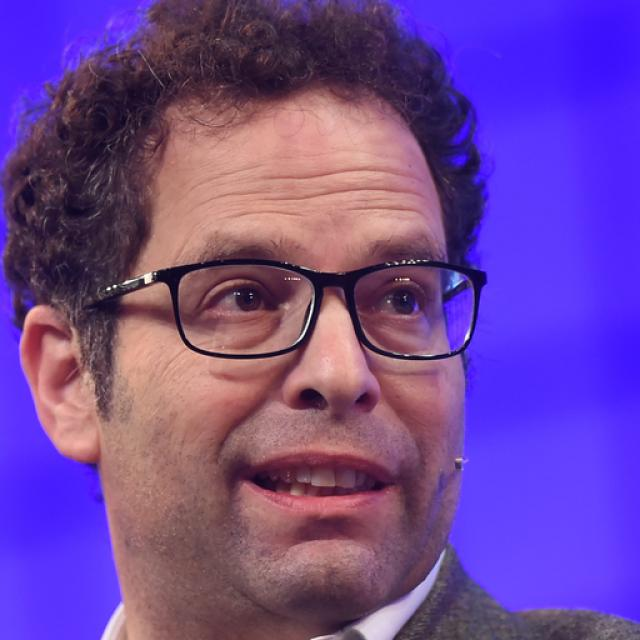Wrinkle: (256, 182, 430, 205), (263, 164, 428, 185), (186, 159, 264, 196), (192, 187, 272, 211), (222, 205, 310, 226), (349, 203, 429, 225)
